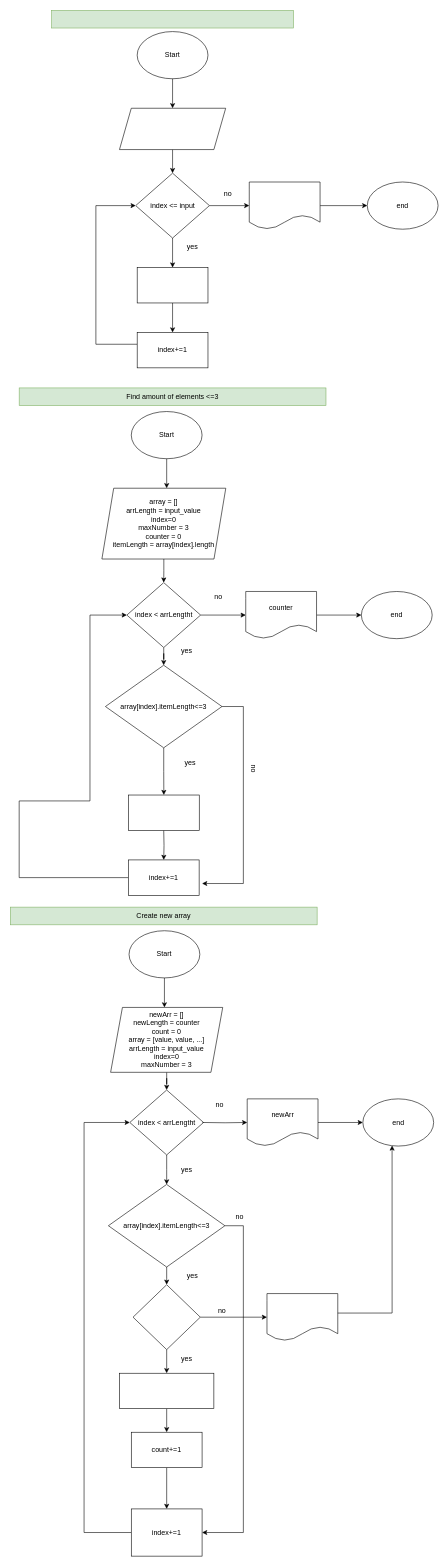
This 448x1566 diagram has some shape labels left out. The shapes that lost their labels are listed below. From the top down, each one's centre as x and y in pixels, then its label:
pixel 172 19: Ask the data for array
pixel 172 129: length = input_length array = [] index=0 value = input_value
pixel 284 205: array
pixel 172 285: array[index] = value
pixel 163 812: counter+=1
pixel 166 1317: count<=newLength
pixel 302 1317: Error
pixel 166 1391: newArr[count]=array[index]
